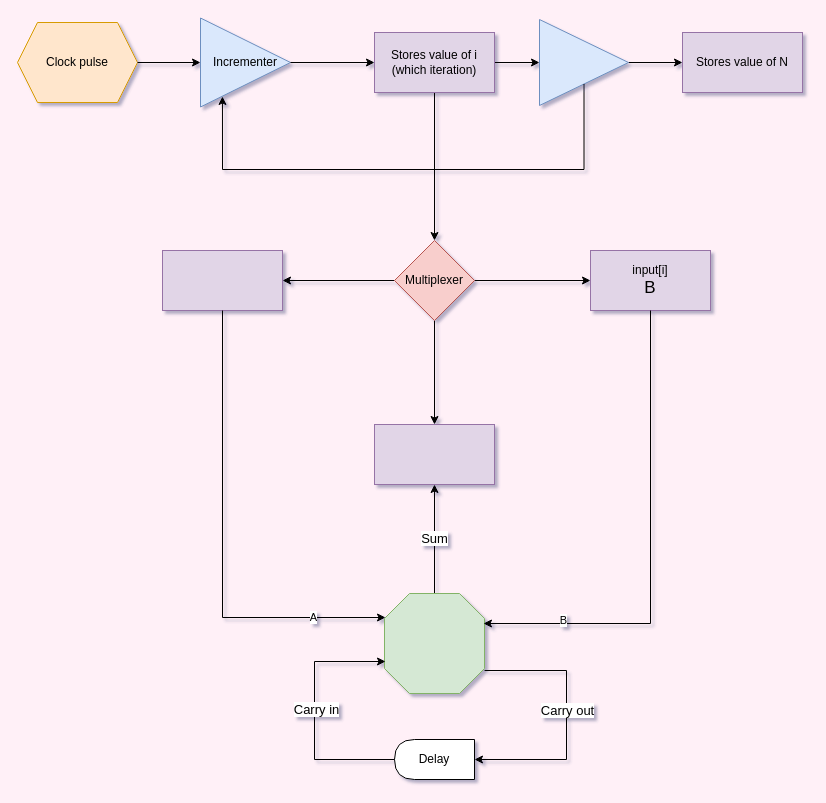
Image size: 826x803. Some labels were removed from this diagram. Here are the shapes that lost their labels. From the top down, the box of each, then its label:
(538, 18, 628, 106): comparator
(162, 250, 282, 310): Input[i] A
(374, 424, 494, 484): Output[i] C
(384, 592, 484, 694): Full adder 1 - bit
